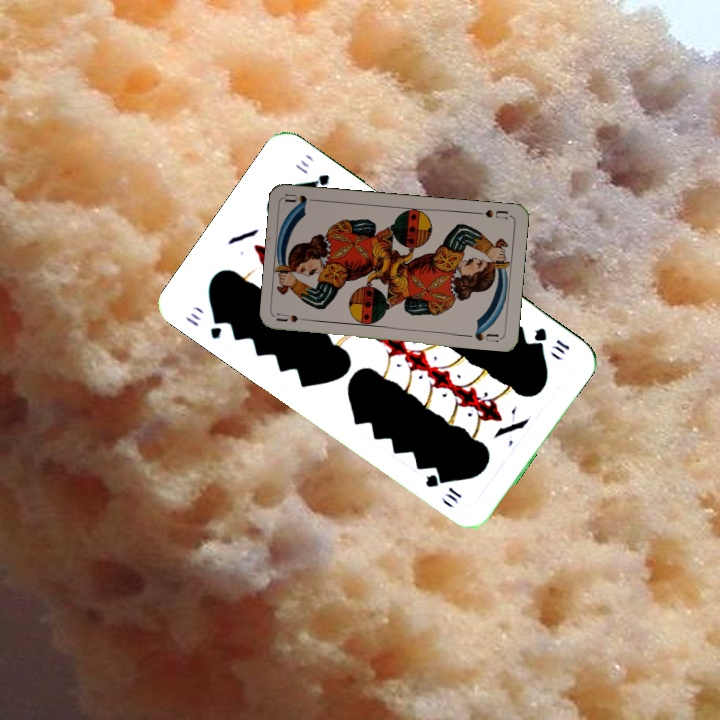G10: (180, 308, 228, 342), (529, 323, 573, 356)
SU: (472, 205, 511, 222), (274, 309, 314, 325)
